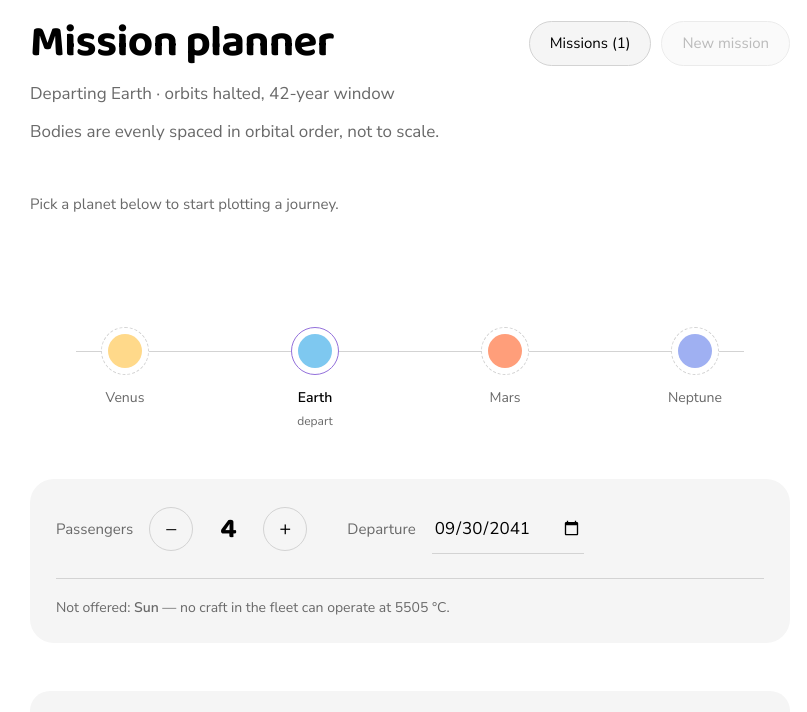
planner screen › loads a saved mission back into the planner
Click the link "Missions (1)": (590, 43) [529, 21, 652, 66]
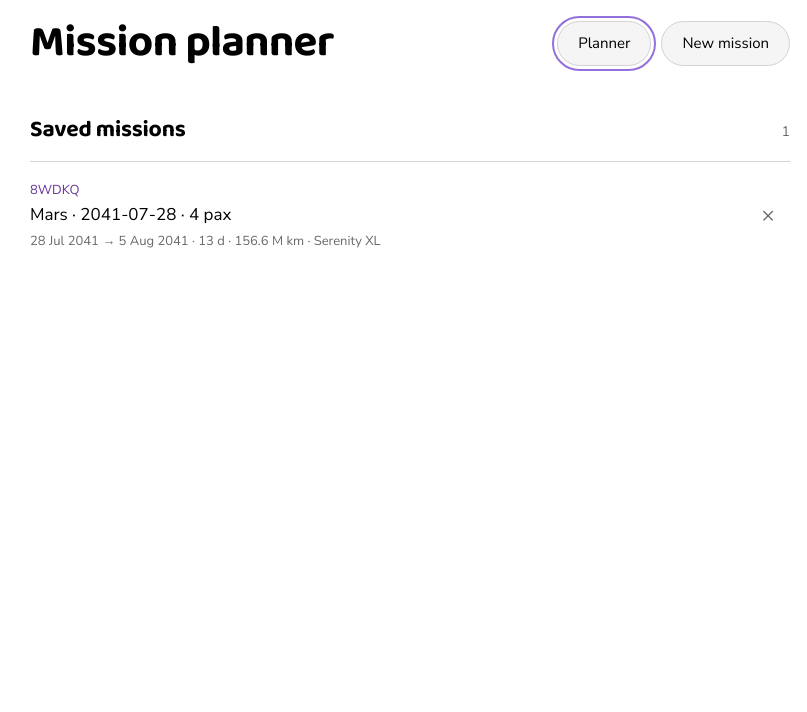
Click the button "Mars · 2041-07-28 · 4 pax": (55, 190) [16, 162, 738, 269]
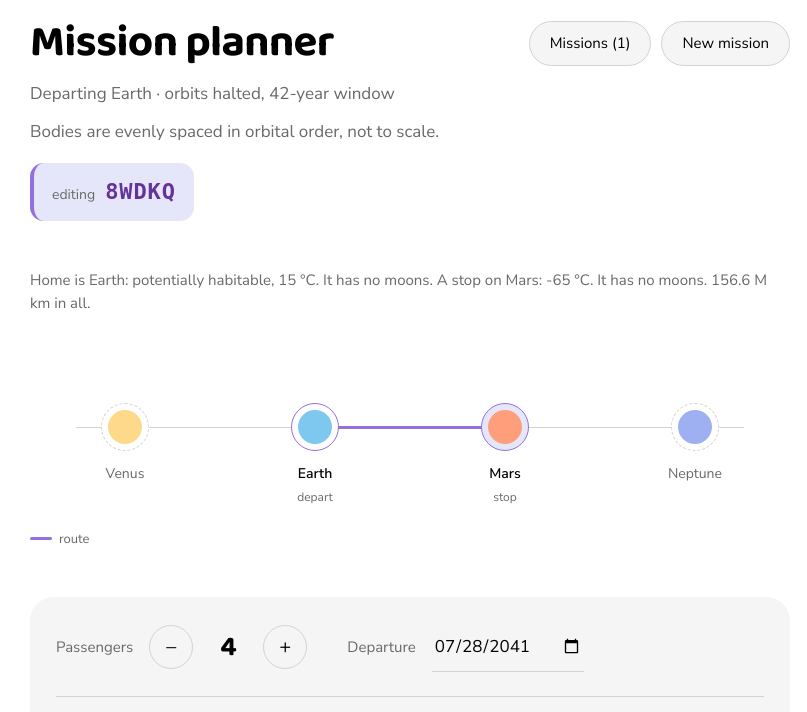
Expected: the text "8WDKQ" is shown once, [105, 175, 176, 209]
